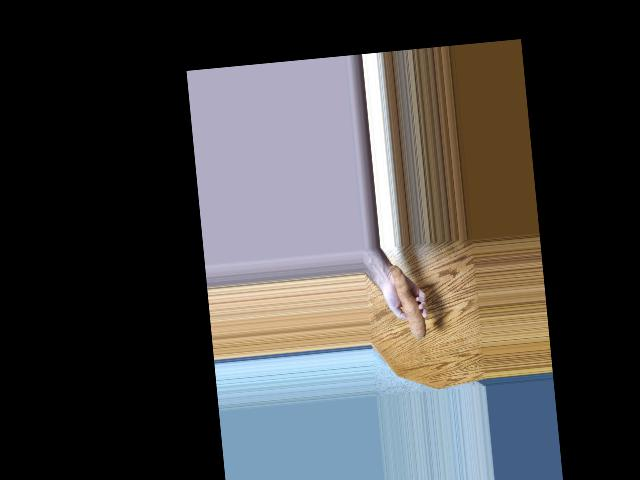sweet_potato: (393, 266, 428, 337)
